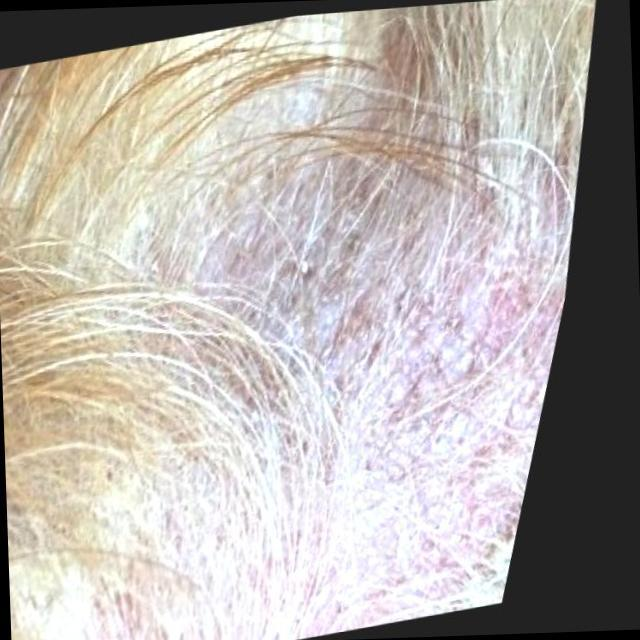fungal infection: (132, 256, 640, 640)
